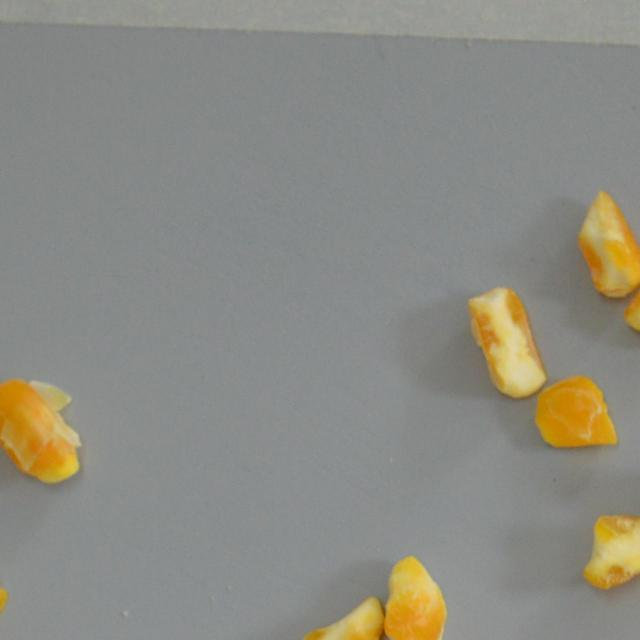estandar: (568, 190, 640, 302), (580, 503, 640, 596)
pelicula: (516, 356, 632, 473), (454, 286, 570, 402), (0, 372, 88, 489), (369, 559, 486, 640), (288, 592, 405, 640), (617, 244, 640, 361)
